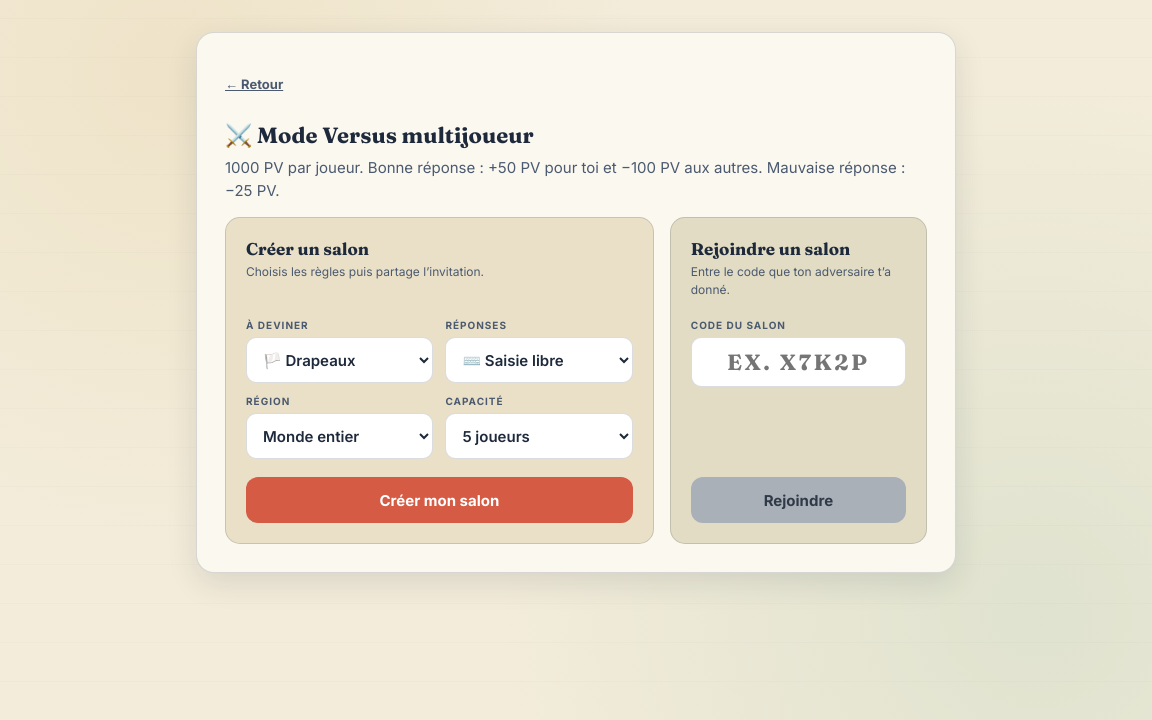
Test: Versus lobby › offers map prompts and the first-to-find rule
Select "🗺️ Trouve sur la carte" in the dropdown labelled "À deviner" at {"x": 340, "y": 360}, box [246,337,433,383]
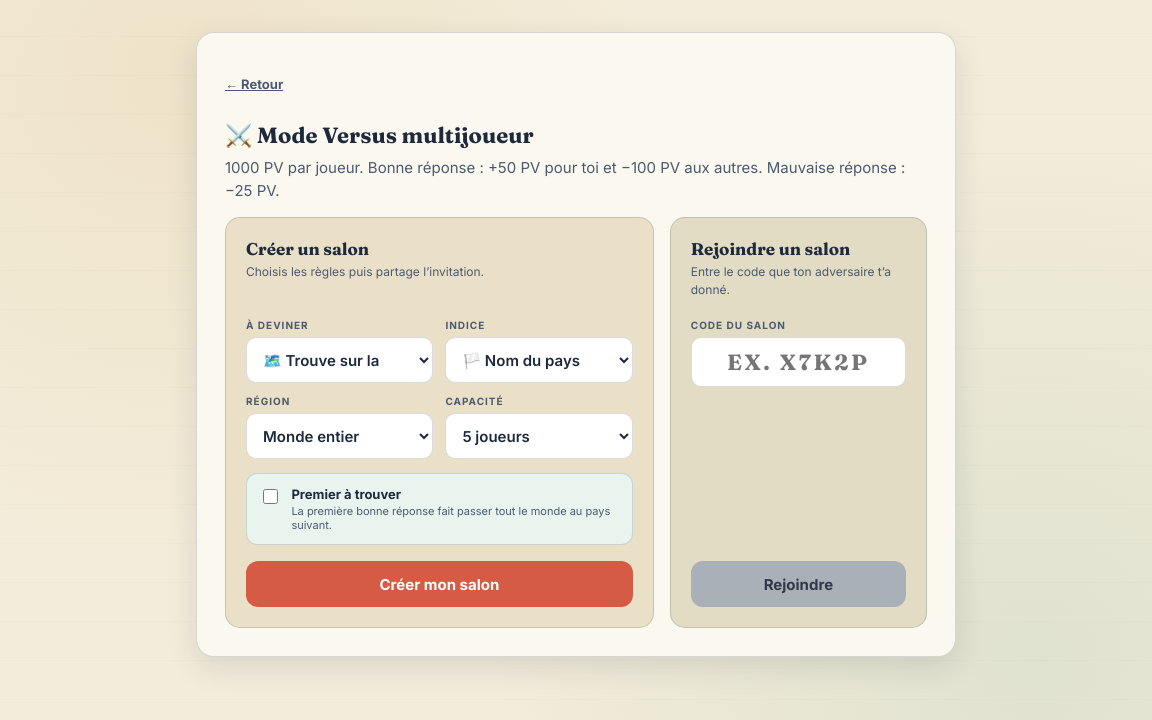
Expected: the dropdown labelled "Indice" is shown, [445,337,633,383]
Expected: the checkbox labelled "Premier à trouver" is shown, [263,488,278,505]
